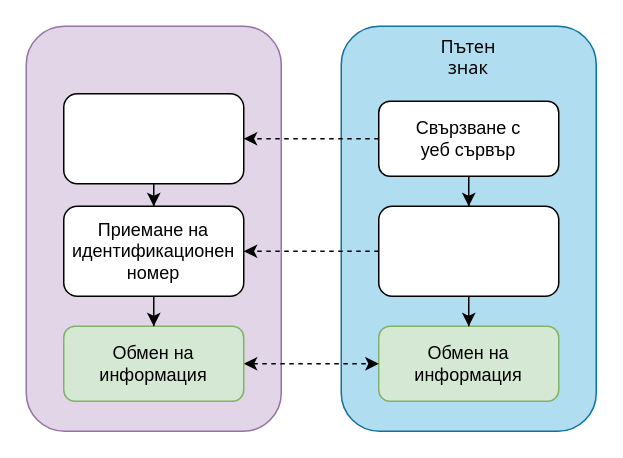
This 623x458 diagram has some shape labels left out. The shapes that lost their labels are listed below. From the top down, each one's box as (x1, y1, x2, y2) in pixels, then its label:
(62, 92, 244, 184): Изчакване на входяща връзка от пътен знак
(25, 25, 281, 431): Уеб сървър
(377, 205, 559, 296): Изпращане на идентификационен номер
